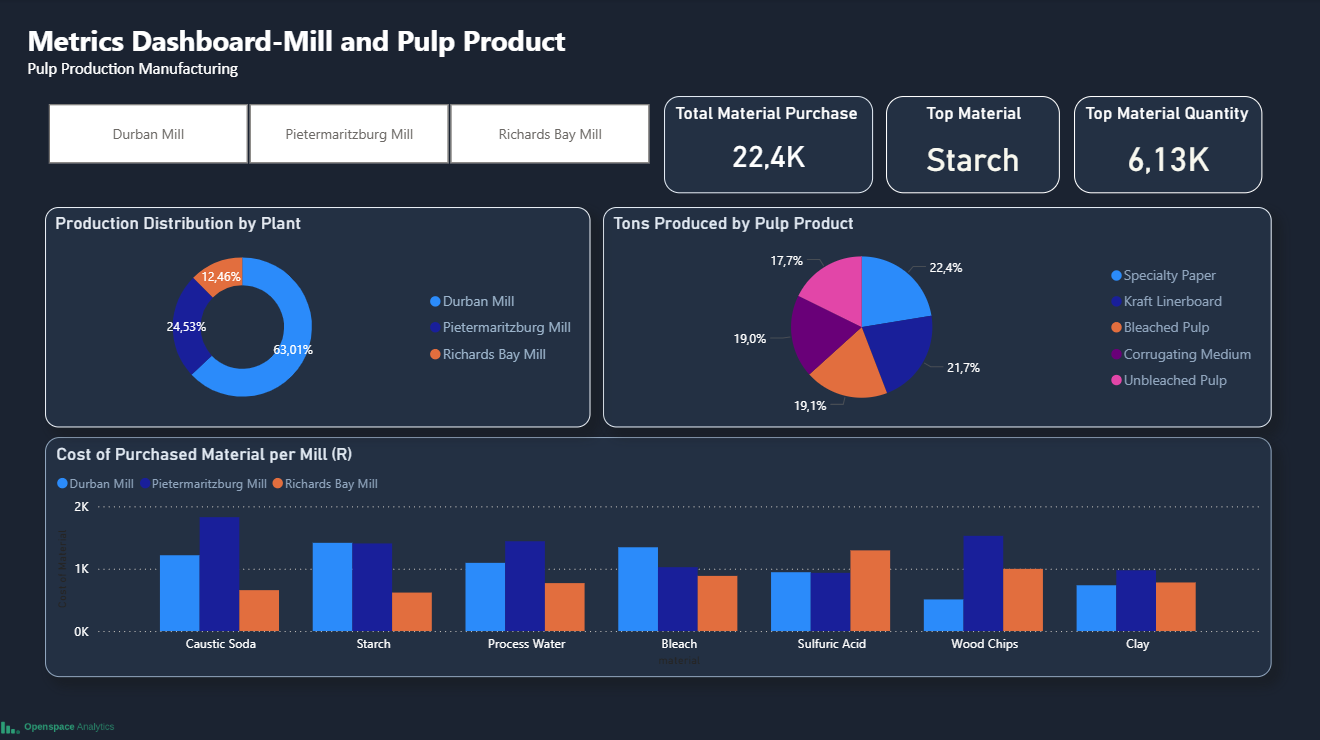

What the dashboard file says about the page in this screenshot:
{"tool":"powerbi","page":{"name":"Page 2","canvas":[1280,720],"ordinal":1},"visuals":[{"type":"clusteredColumnChart","title":"Cost of Purchased Material per Mill (R)","fields":{"Y":["Sum(analytics purchase_by_product_and_plant.total_cost)"],"Category":["analytics purchase_by_product_and_plant.material"],"Series":["Dim_Plant.Plant"]},"box":[47.7,423.1,1184.7,232.5],"z":0},{"type":"donutChart","title":"Production Distribution by Plant","fields":{"Y":["Sum(analytics production_by_plant.total_production)"],"Category":["Dim_Plant.Plant"]},"box":[47.7,201.3,527.2,213],"z":1000,"group":"g1"},{"type":"pieChart","title":"Tons Produced by Pulp Product","fields":{"Category":["analytics vw_production_summary.product"],"Y":["Sum(analytics vw_production_summary.total_production_tons)"]},"box":[586.5,201.3,645.8,213],"z":1000},{"type":"textbox","box":[25.3,16.5,1240.1,93.4],"z":2000},{"type":"card","title":"Total Material Purchase","fields":{"Values":["Sum(analytics purchase_by_product_and_plant.total_cost)"]},"box":[645,94,202,94],"z":3000,"group":"g2"},{"type":"slicer","fields":{"Values":["Dim_Plant.Plant"]},"box":[25.3,94.3,630.3,71],"z":3000},{"type":"group","id":"g1","title":"Group 1","box":[47.7,201.3,527.2,213],"z":4000},{"type":"group","id":"g2","title":"Group 2","box":[645,94,202,94],"z":5000},{"type":"image","box":[0,683.8,204.3,36],"z":6000},{"type":"cardVisual","title":"Top Material","fields":{"Data":["analytics purchase_by_product_and_plant.Top Material"]},"box":[860,94,168,94],"z":7000},{"type":"cardVisual","title":"Top Material Quantity","fields":{"Data":["analytics purchase_by_product_and_plant.Top Material Quantity"]},"box":[1041,94,182,94],"z":8000}]}

Visuals, with their boxes in screenshot pixels (x1, y1, x2, y2), scaled from the page's 1280x720 canvas onto the 1320x740 screenshot:
"Cost of Purchased Material per Mill (R)" clusteredColumnChart: rect(49, 435, 1271, 674)
"Production Distribution by Plant" donutChart: rect(49, 207, 593, 426)
"Tons Produced by Pulp Product" pieChart: rect(605, 207, 1271, 426)
textbox: rect(26, 17, 1305, 113)
"Total Material Purchase" card: rect(665, 97, 873, 193)
slicer - Dim_Plant.Plant: rect(26, 97, 676, 170)
"Group 1" group: rect(49, 207, 593, 426)
"Group 2" group: rect(665, 97, 873, 193)
image: rect(0, 703, 211, 739)
"Top Material" cardVisual: rect(887, 97, 1060, 193)
"Top Material Quantity" cardVisual: rect(1074, 97, 1261, 193)
